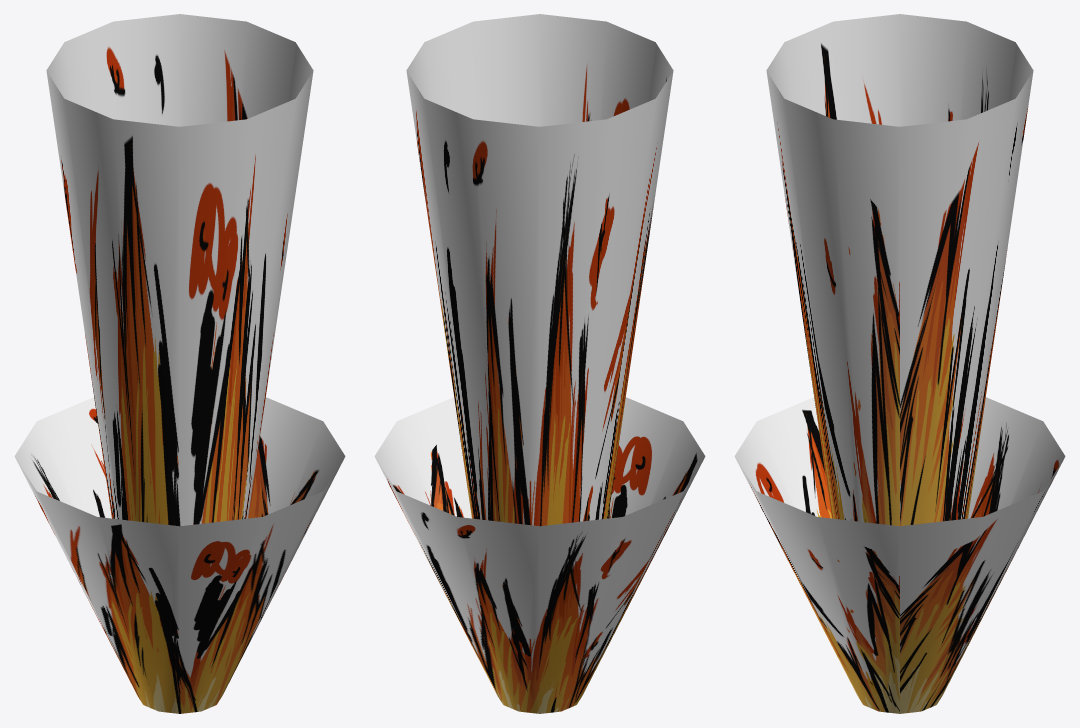
Rendered from Muzzle_01.fbx.
The picture shows the model from 3 angles, left to right: view 1: azimuth 30°, elevation 25°; view 2: azimuth 150°, elevation 25°; view 3: azimuth 270°, elevation 25°; orthographic projection.
Visible parts, largest first — view 1: Muzzle_01; view 2: Muzzle_01; view 3: Muzzle_01.
Boxes of the visible parts, x1,y1,x2,y2 form: Muzzle_01: (14,14,345,713); Muzzle_01: (374,14,705,713); Muzzle_01: (734,14,1065,713).
Size of the model in its own units: 0.1217 by 0.2537 by 0.1217.
